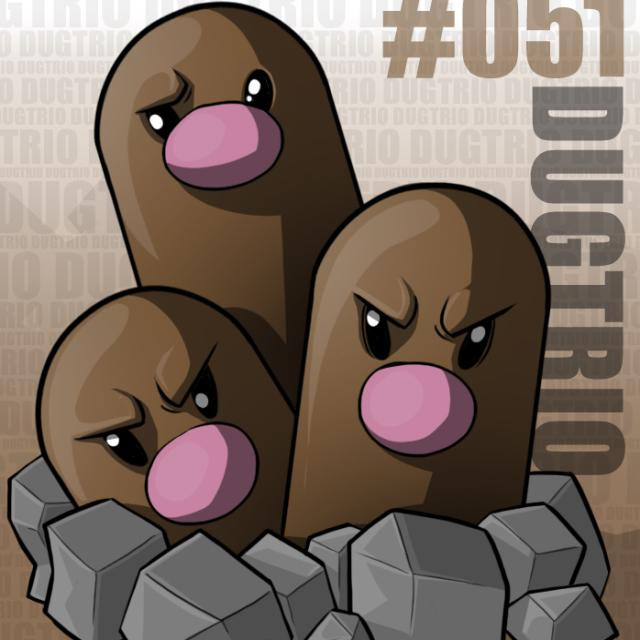Dugtrio: (49, 4, 545, 548)
